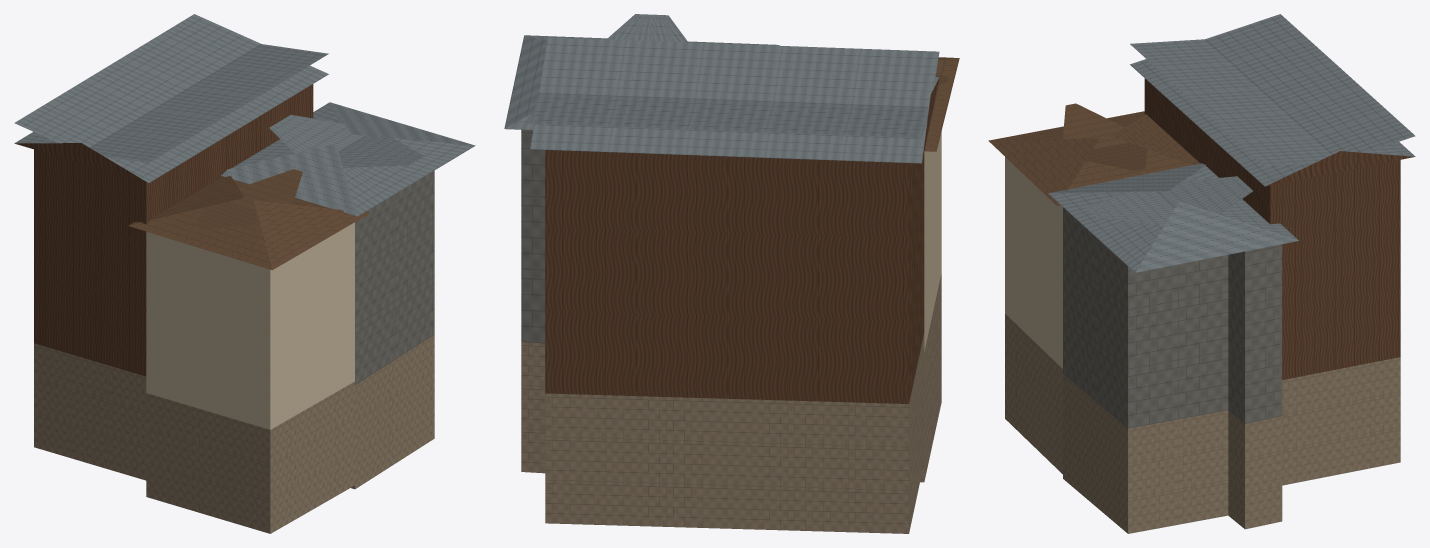
File: bld_c11_19_432.gltf
3 views of the same model, side by side, from view 1: azimuth 30°, elevation 25°; view 2: azimuth 150°, elevation 25°; view 3: azimuth 270°, elevation 25° (orthographic). The views are drawn at different scales.
Visible parts, largest first — view 1: bld_c11_19_432; view 2: bld_c11_19_432; view 3: bld_c11_19_432.
Boxes of the visible parts, x1,y1,x2,y2 form: bld_c11_19_432: [14, 14, 475, 533]; bld_c11_19_432: [504, 14, 959, 533]; bld_c11_19_432: [988, 14, 1415, 533].
Bounding box in the file's own units: 20.02 × 16.9 × 18.75.
Materials: 7 (7 with a texture image).
